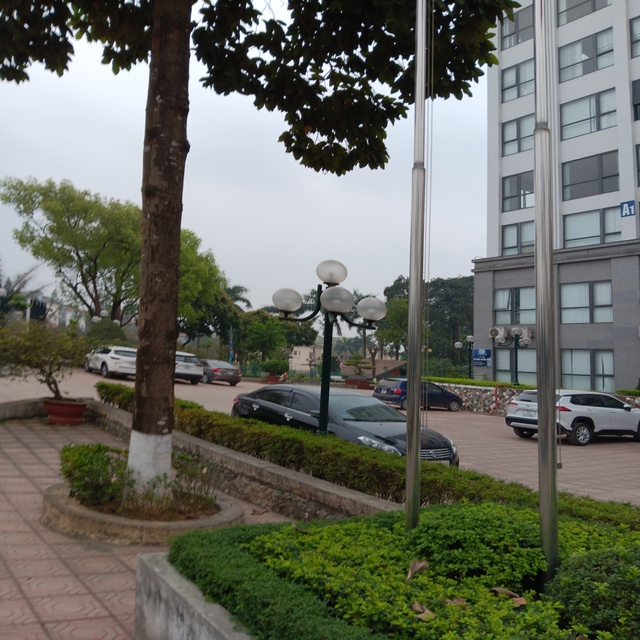cotden: (270, 255, 392, 438), (492, 322, 536, 389)
